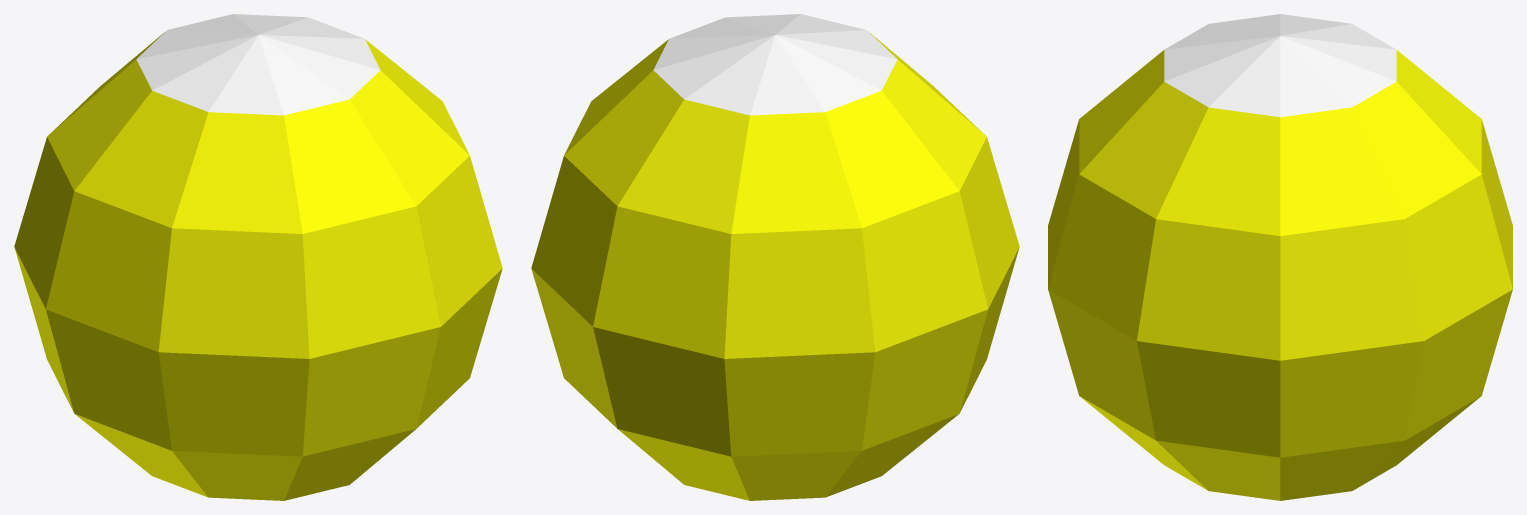
File: ball_sun.glb
The picture shows the model from 3 angles, left to right: view 1: azimuth 30°, elevation 25°; view 2: azimuth 150°, elevation 25°; view 3: azimuth 270°, elevation 25°; orthographic projection.
Visible parts, largest first — view 1: Ball; view 2: Ball; view 3: Ball.
Boxes of the visible parts, x1,y1,x2,y2 form: Ball: (14,14,502,500); Ball: (531,14,1019,500); Ball: (1048,14,1512,500).
Bounding box in the file's own units: 0.09 × 0.09 × 0.0856.
